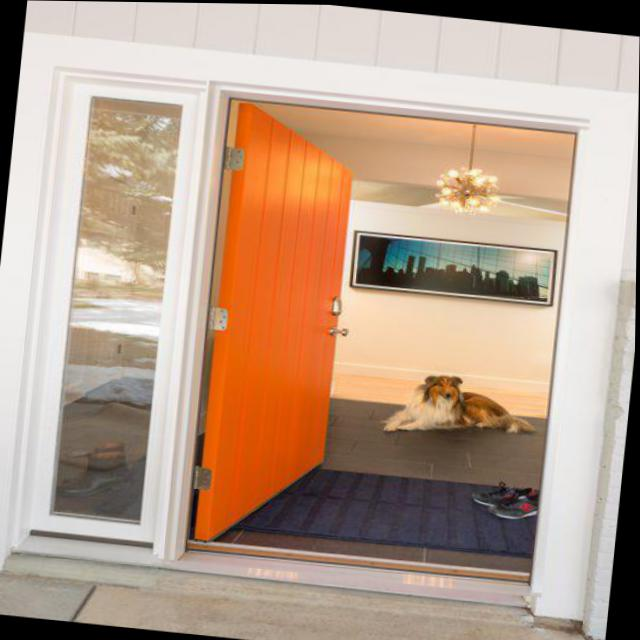open: (159, 66, 592, 597)
